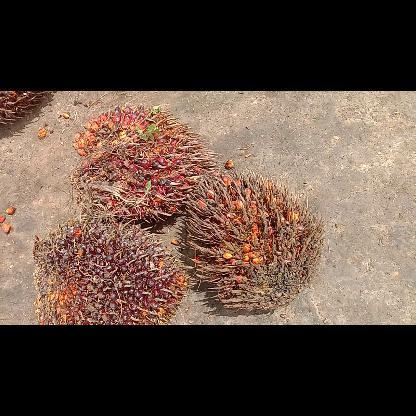Kurang masak: (32, 218, 186, 324)
TBS masak: (74, 102, 216, 223)
Terlalu masak: (178, 173, 324, 313)
